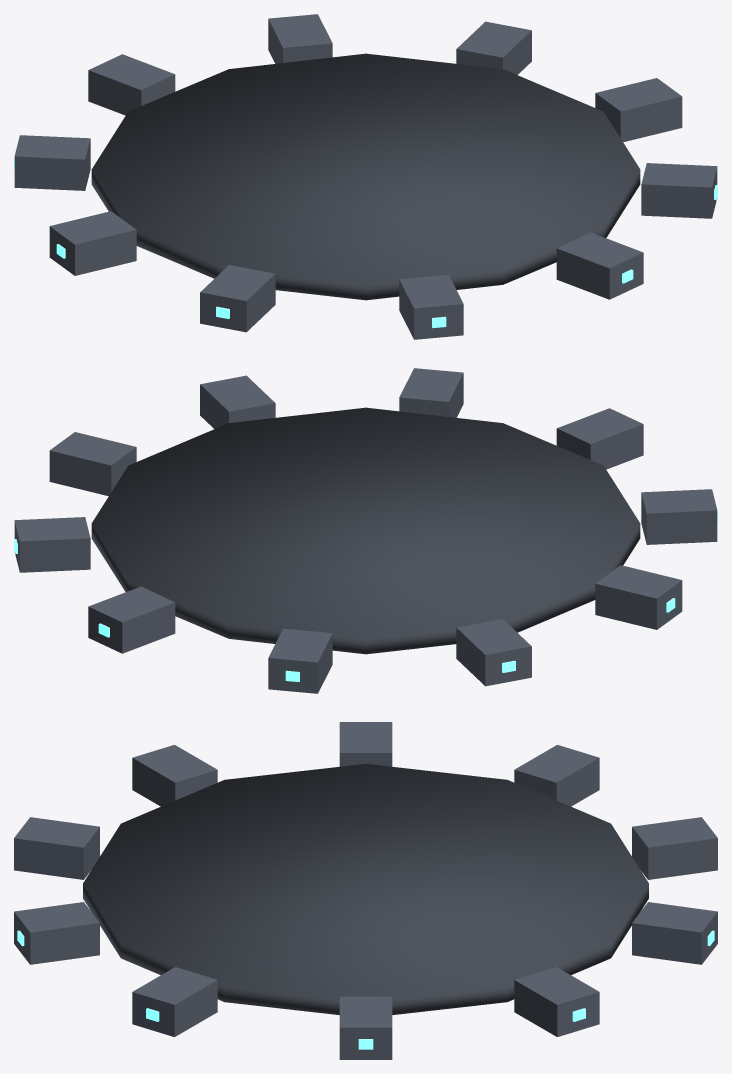
The model's file is prop_reactor_ring.glb.
The picture shows the model from 3 angles, top to bottom: view 1: azimuth 30°, elevation 25°; view 2: azimuth 150°, elevation 25°; view 3: azimuth 270°, elevation 25°; orthographic projection. The views are drawn at different scales.
Parts seen in each view (by area): view 1: prop_reactor_ring; view 2: prop_reactor_ring; view 3: prop_reactor_ring.
Part boxes in pixels (x1,y1,x2,y2): prop_reactor_ring: [14, 14, 717, 339]; prop_reactor_ring: [14, 368, 717, 693]; prop_reactor_ring: [14, 722, 717, 1059].
Bounding box in the file's own units: 6.95 × 0.3399 × 6.72.
